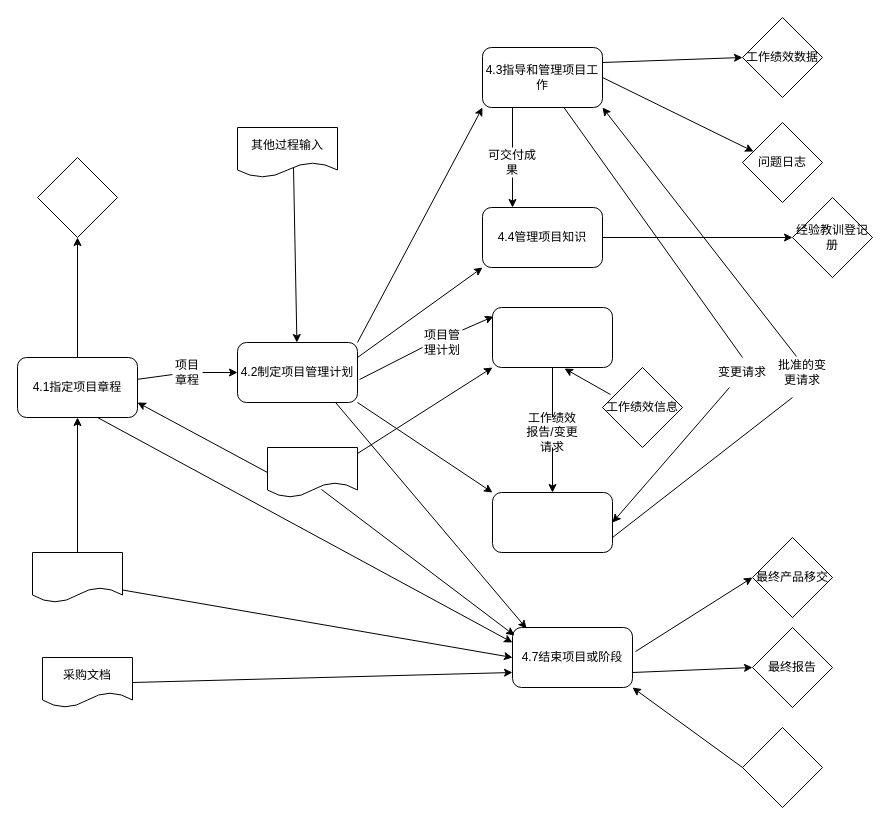
This 890x825 diagram has some shape labels left out. Here are the shapes that lost their labels. From the top down, the centre of each, then its label:
At (77,197): "假设日志".
At (552,337): "4.5监控项目工作".
At (312,472): "协议".
At (552,522): "4.6实施整体观更控制".
At (77,577): "商业文件".
At (782,767): "验收可交付成果".
